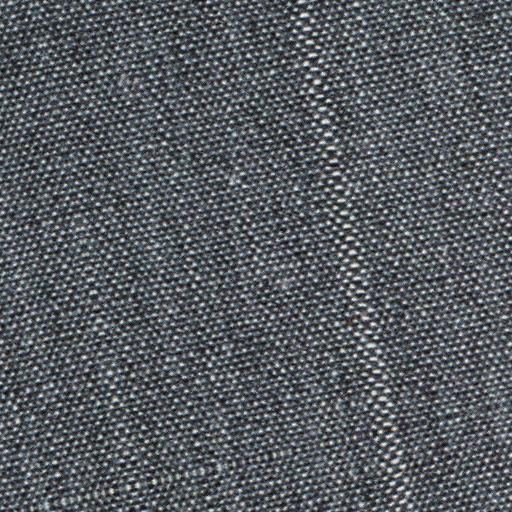slub: (283, 1, 425, 511)
